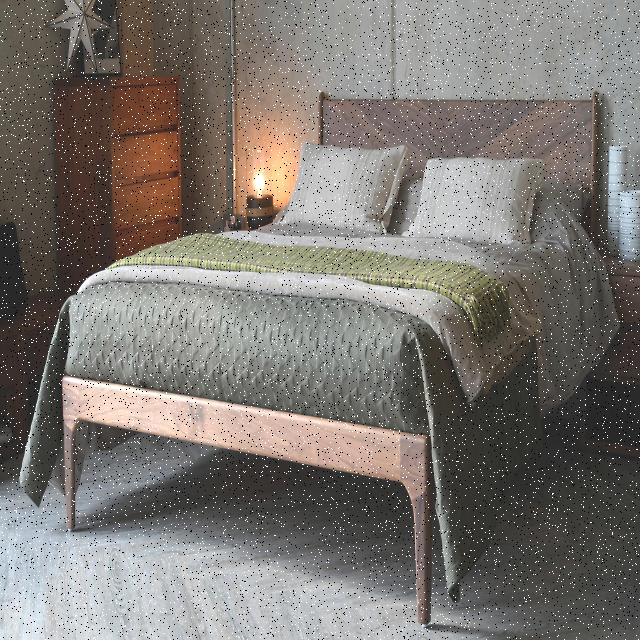bed: (63, 107, 587, 544)
